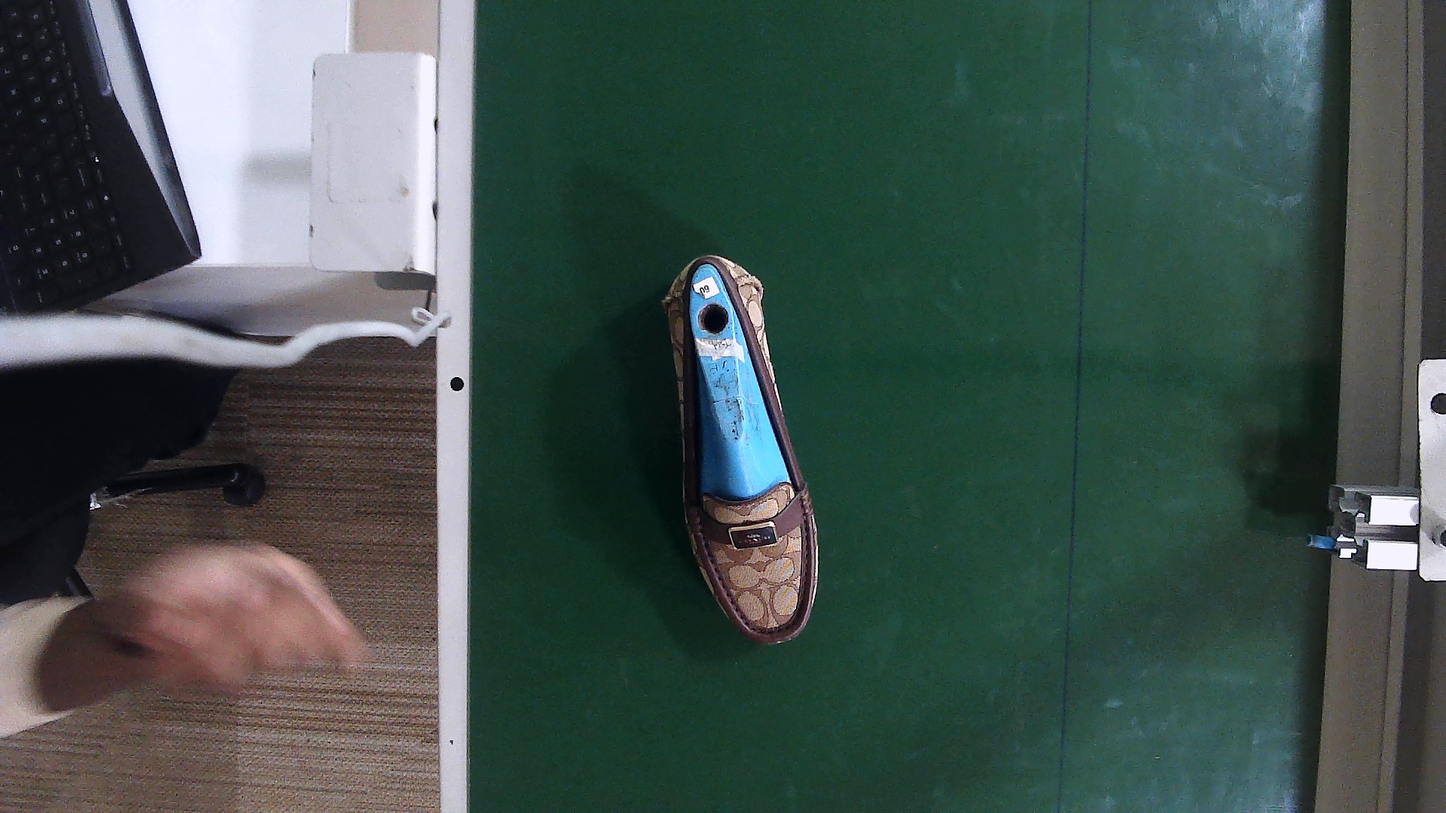shoe: (669, 257, 815, 643)
